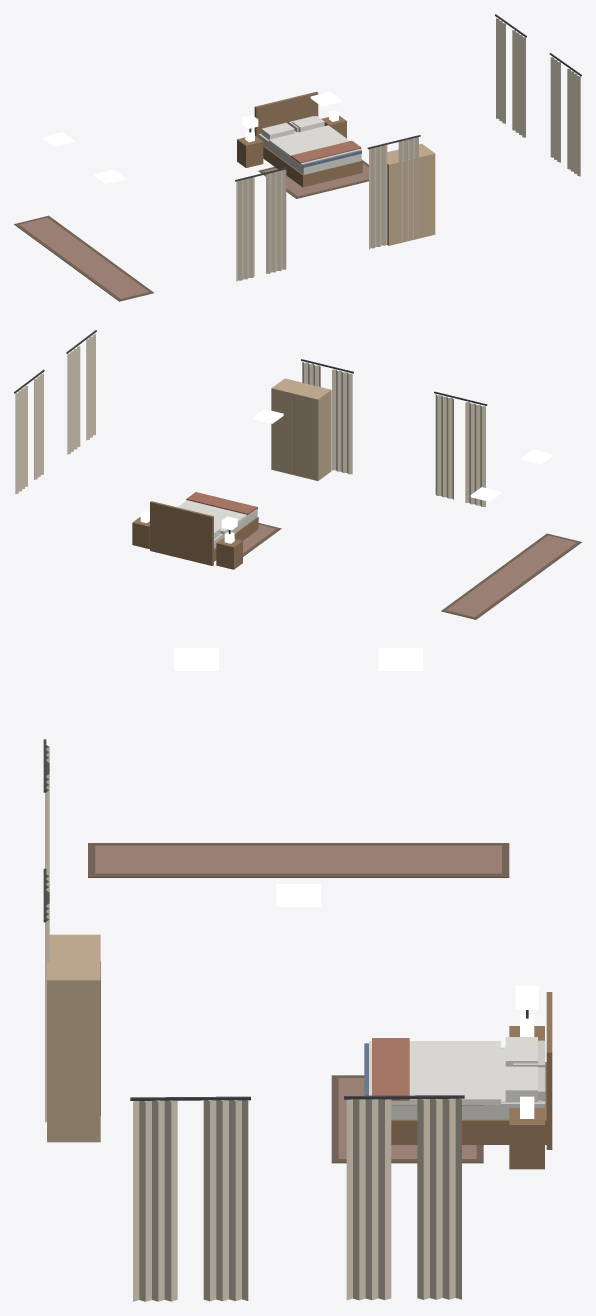
The model's file is fine-s2.glb.
3 renders of one model, top to bottom at view 1: azimuth 30°, elevation 25°; view 2: azimuth 150°, elevation 25°; view 3: azimuth 270°, elevation 25°, orthographic. The views are drawn at different scales.
Parts seen in each view (by area): view 1: soft-s2, bed-frame.001, dresser.001, nightstand.002, nightstand.003; view 2: soft-s2, dresser.001, bed-frame.001, nightstand.002, nightstand.003; view 3: soft-s2, dresser.001, bed-frame.001, nightstand.003, ceiling-lamp.005, ceiling-lamp.006, ceiling-lamp.007.
Part boxes in pixels (bbox=[...]): soft-s2: bbox=[14, 14, 581, 301]; bed-frame.001: bbox=[254, 91, 362, 187]; dresser.001: bbox=[387, 144, 435, 245]; nightstand.002: bbox=[237, 130, 263, 167]; nightstand.003: bbox=[321, 110, 346, 138]; soft-s2: bbox=[14, 330, 581, 619]; dresser.001: bbox=[271, 378, 331, 480]; bed-frame.001: bbox=[150, 501, 258, 565]; nightstand.002: bbox=[216, 531, 242, 569]; nightstand.003: bbox=[132, 511, 149, 549]; soft-s2: bbox=[43, 739, 541, 1301]; dresser.001: bbox=[47, 934, 100, 1142]; bed-frame.001: bbox=[364, 992, 552, 1149]; nightstand.003: bbox=[509, 1096, 544, 1169]; ceiling-lamp.005: bbox=[378, 648, 423, 670]; ceiling-lamp.006: bbox=[174, 648, 218, 670]; ceiling-lamp.007: bbox=[276, 884, 320, 906].
Bounding box in the file's own units: 12.21 × 2.56 × 5.68.
